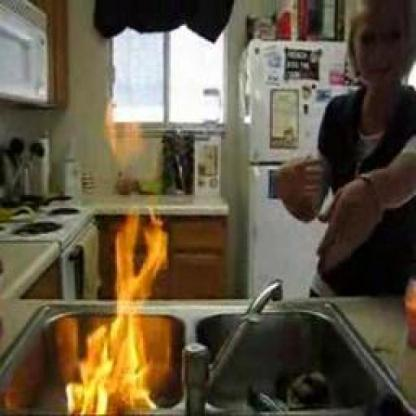fire: (60, 197, 174, 416), (98, 92, 156, 168)
